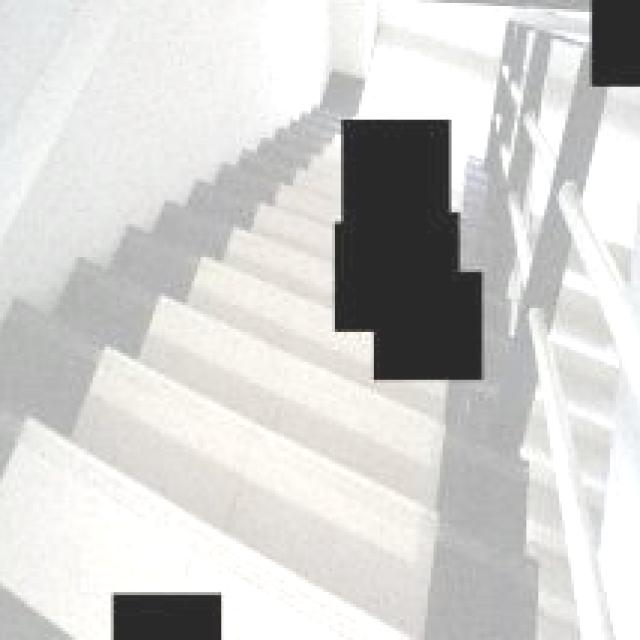downstair: (13, 303, 321, 557)
